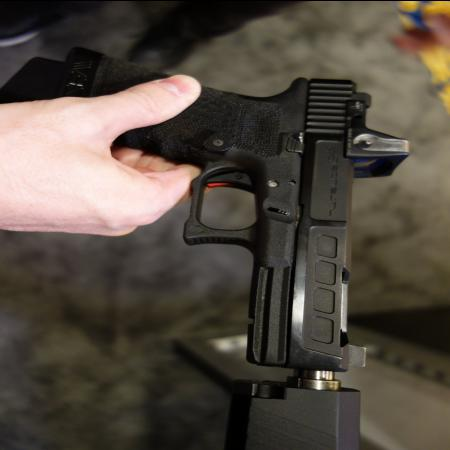Pistol: (0, 45, 408, 380)
